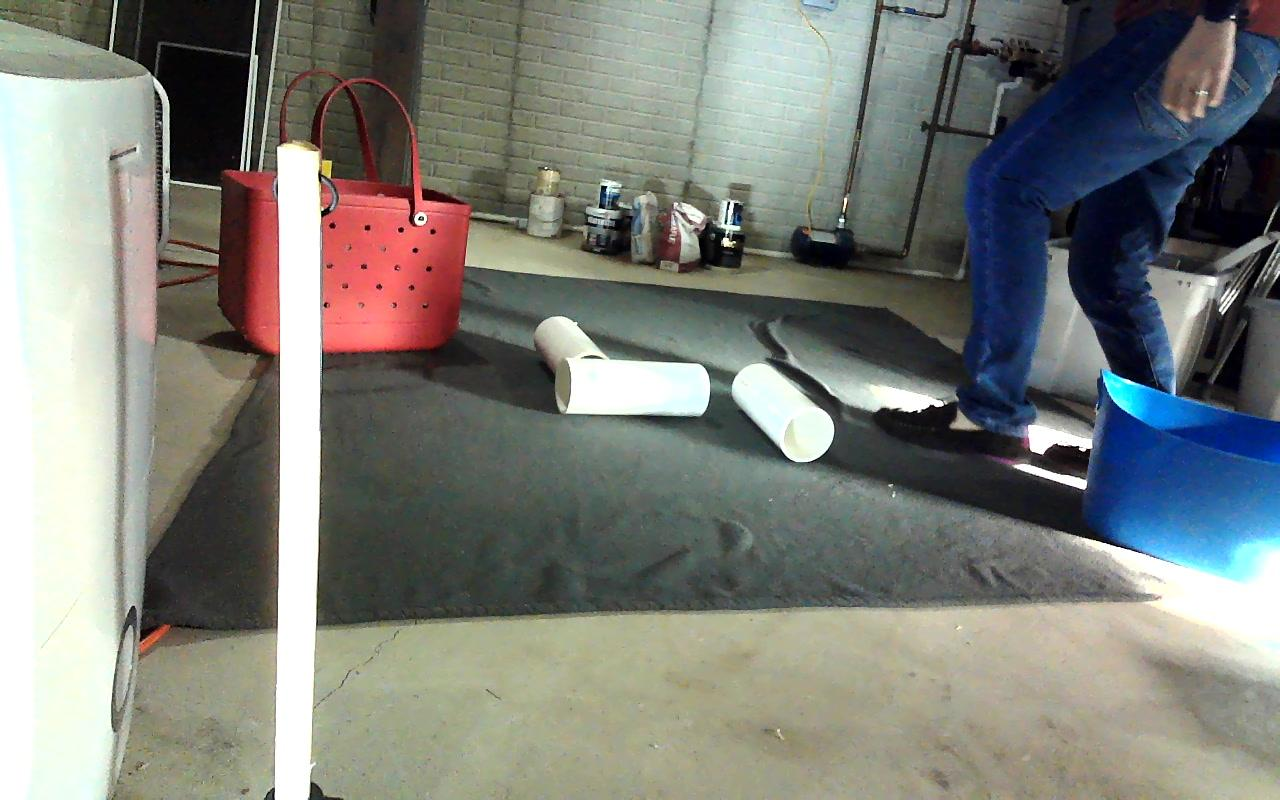coral: (731, 362, 834, 461), (555, 356, 709, 417), (531, 318, 606, 382)
